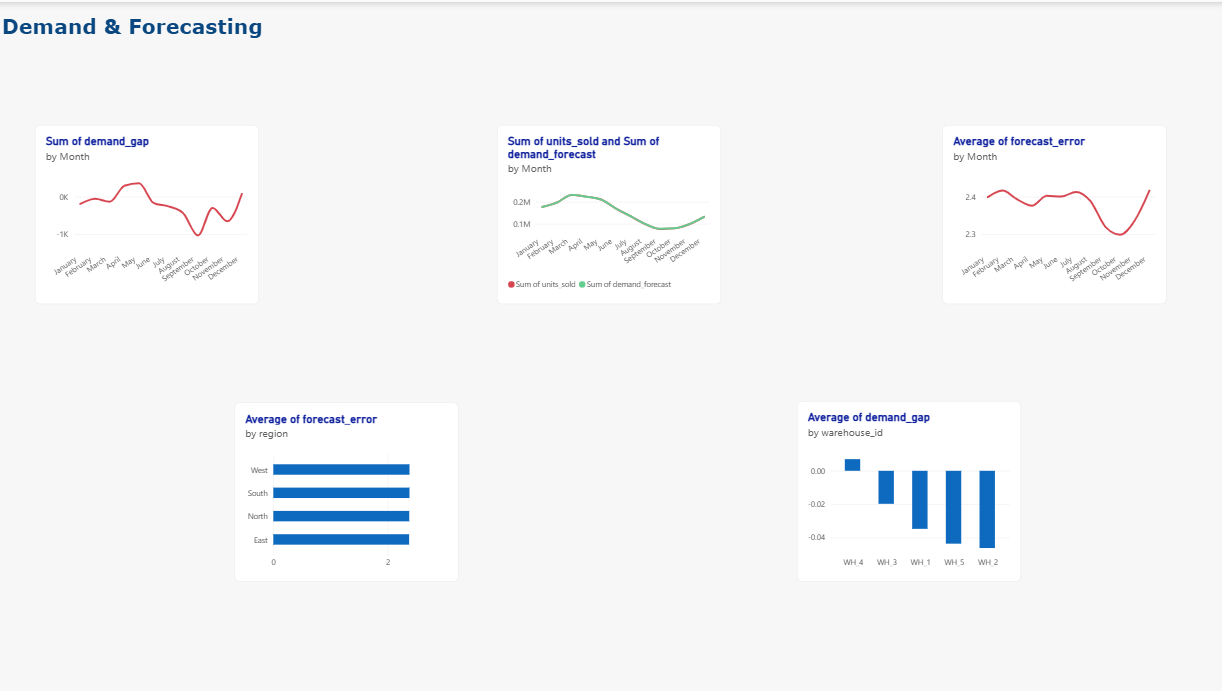

What the dashboard file says about the page in this screenshot:
{"tool":"powerbi","page":{"name":"Demand & Forecasting","canvas":[1920,1080],"ordinal":3},"visuals":[{"type":"lineChart","fields":{"Category":["public supply_chain.date.Variation.Date Hierarchy.Month"],"Y":["Sum(public supply_chain.units_sold)","Sum(public supply_chain.demand_forecast)"]},"box":[783.1,192.2,350,280],"z":0},{"type":"lineChart","fields":{"Category":["public supply_chain.date.Variation.Date Hierarchy.Month"],"Y":["Sum(public supply_chain.demand_gap)"]},"box":[61,192.2,350,280],"z":1},{"type":"clusteredBarChart","fields":{"Category":["public supply_chain.region"],"Y":["Avg(public supply_chain.forecast_error)"]},"box":[372.8,626,350,280],"z":2},{"type":"clusteredColumnChart","fields":{"Category":["public supply_chain.warehouse_id"],"Y":["Avg(public supply_chain.demand_gap)"]},"box":[1252,623.6,350,282],"z":3},{"type":"lineChart","fields":{"Category":["public supply_chain.date.Variation.Date Hierarchy.Month"],"Y":["Avg(public supply_chain.forecast_error)"]},"box":[1479.4,192.2,350,280],"z":4},{"type":"textbox","box":[9.4,18.8,642.4,68],"z":5}]}

Visuals, with their boxes in screenshot pixels (x1, y1, x2, y2), scaled from the page's 1920x1080 canvas onto the 1222x691 screenshot:
lineChart - public supply_chain.date.Variation.Date Hierarchy.Month x Sum(public supply_chain.units_sold): 498/123/721/302
lineChart - public supply_chain.date.Variation.Date Hierarchy.Month x Sum(public supply_chain.demand_gap): 39/123/262/302
clusteredBarChart - public supply_chain.region x Avg(public supply_chain.forecast_error): 237/401/460/580
clusteredColumnChart - public supply_chain.warehouse_id x Avg(public supply_chain.demand_gap): 797/399/1020/579
lineChart - public supply_chain.date.Variation.Date Hierarchy.Month x Avg(public supply_chain.forecast_error): 942/123/1164/302
textbox: 6/12/415/56
